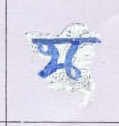anusvara: (68, 31, 71, 33)
